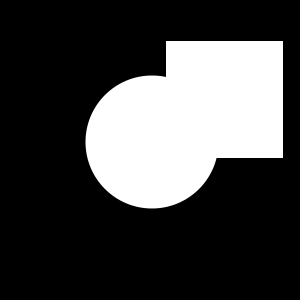circle: (166, 41, 283, 158)
rectangle: (86, 76, 219, 209), (121, 96, 167, 142)
